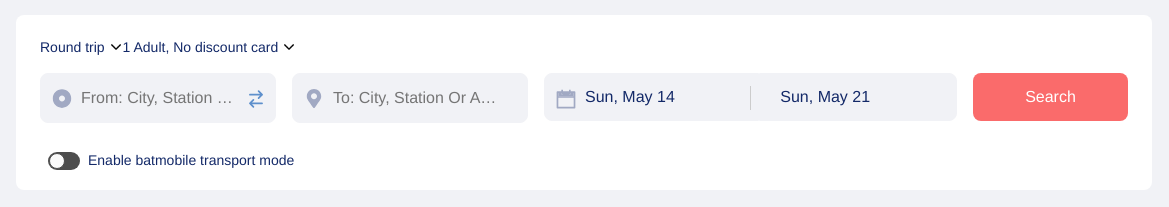
it: SearchbarContainer Inputs › should swat the destination and departure value when clicking on swap icon
Type "Paris" into the field with placeholder "From: City, Station Or Airport" at (158,98), box left=40, top=73, right=276, bottom=123
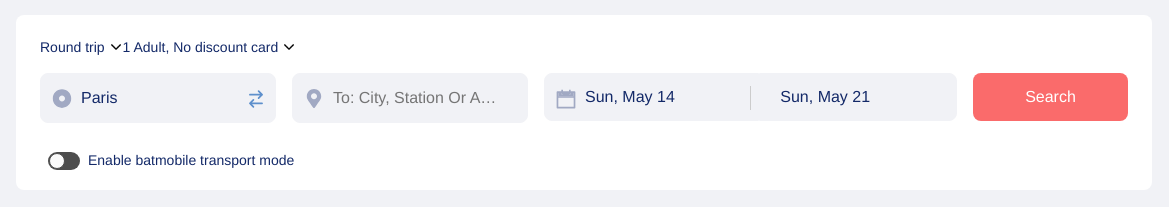
Type "Marseille" into the field with placeholder "To: City, Station Or Airport" at (410,98), box left=292, top=73, right=528, bottom=123
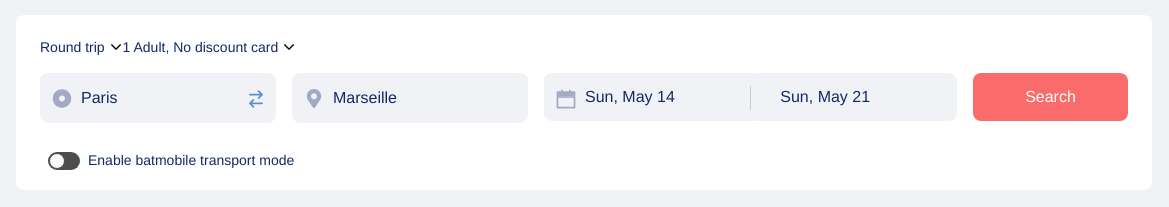
Click the icon with test id "swapIcon" at (256,99), box left=246, top=89, right=266, bottom=109
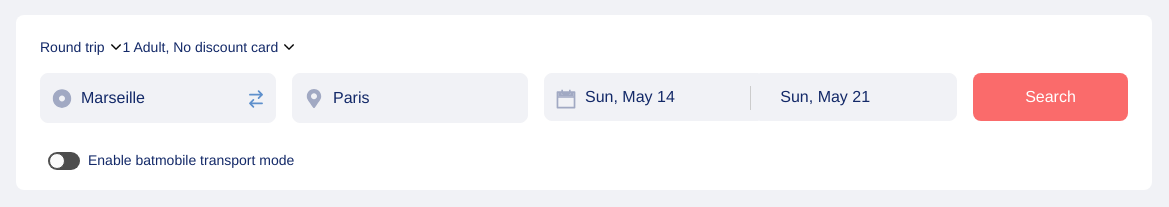
Result: the 1st field with placeholder "From: City, Station Or Airport" holds "Marseille" at left=40, top=73, right=276, bottom=123
